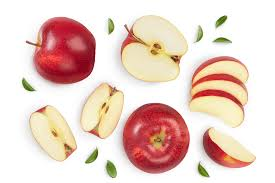apel: (27, 15, 100, 85), (121, 101, 191, 173), (118, 12, 188, 84), (27, 102, 80, 164), (199, 122, 257, 169), (79, 82, 125, 140), (187, 93, 250, 132), (187, 52, 250, 87), (190, 77, 252, 106)
